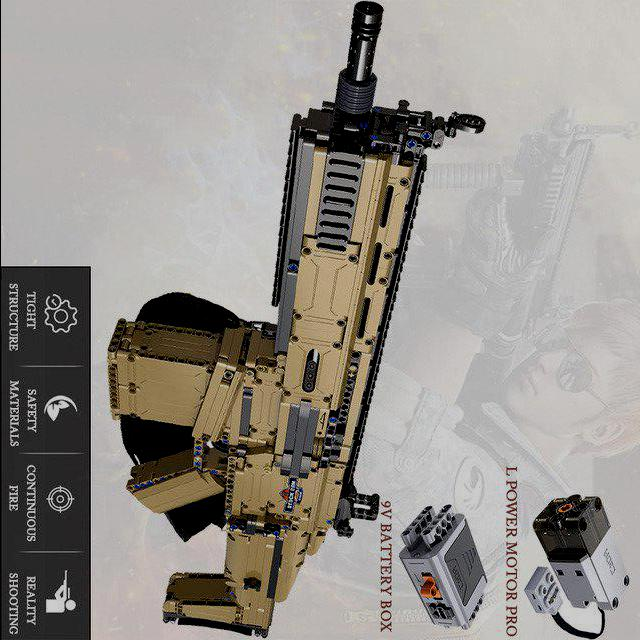long weapon: (123, 0, 416, 631)
